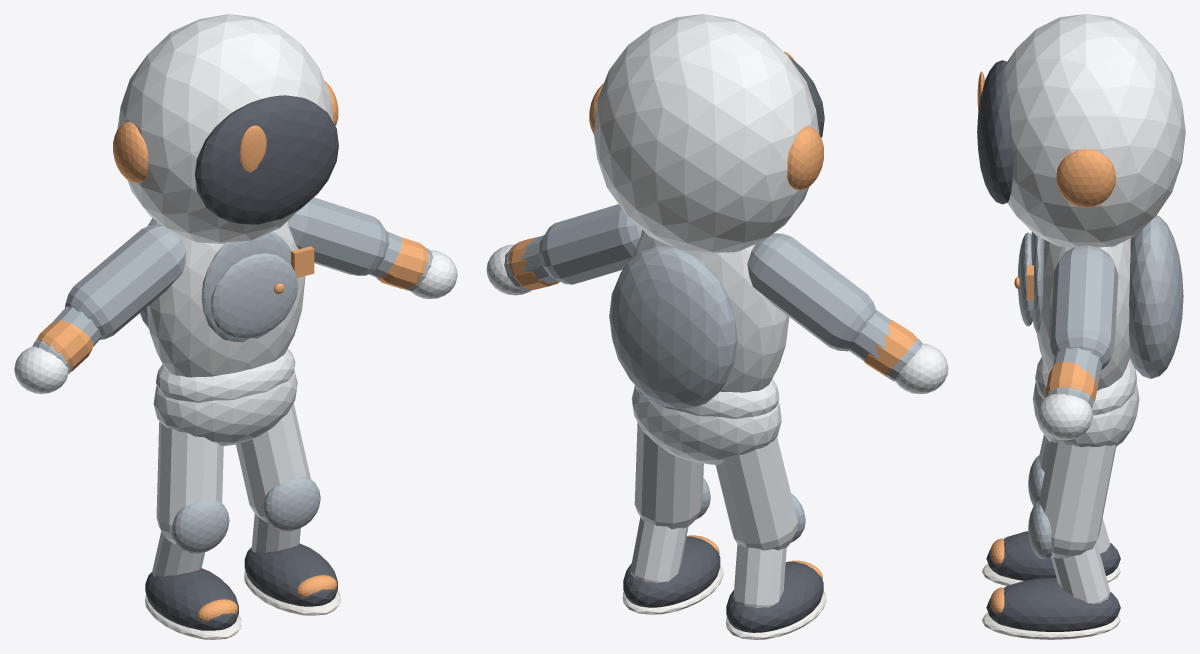
Rendered from 04_astronaut.glb.
The picture shows the model from 3 angles, left to right: view 1: azimuth 30°, elevation 25°; view 2: azimuth 150°, elevation 25°; view 3: azimuth 270°, elevation 25°; orthographic projection. The views are drawn at different scales.
Parts seen in each view (by area): view 1: Helmet shell, Helmet dark visor, Torso, Left upper arm, Chest control panel, Shorts or hip section, Right upper arm, Left thigh, Right thigh, Left shoe, Right shoe, Waist (+16 smaller); view 2: Helmet shell, Life support pack, Left upper arm, Torso, Left thigh, Shorts or hip section, Right upper arm, Right thigh, Left shoe, Right shoe, Left shin, Right shin (+10 smaller); view 3: Helmet shell, Life support pack, Right upper arm, Right thigh, Right shoe, Torso, Helmet dark visor, Helmet comms right, Left shoe, Right shin, Shorts or hip section, Right glove (+11 smaller).
Boxes of the visible parts, x1,y1,x2,y2 form: Helmet shell: (117,14,333,243); Helmet dark visor: (194,95,338,224); Torso: (146,221,305,377); Left upper arm: (65,224,186,339); Chest control panel: (210,253,297,338); Shorts or hip section: (153,370,297,445); Right upper arm: (287,197,388,275); Left thigh: (156,421,223,544); Right thigh: (236,403,310,522); Left shoe: (145,568,238,630); Right shoe: (244,543,337,606); Waist: (156,349,295,402); Helmet shell: (593,14,819,253); Life support pack: (609,246,737,409); Left upper arm: (747,233,876,351); Torso: (627,229,789,392); Left thigh: (715,437,797,550); Shorts or hip section: (631,385,781,464); Right upper arm: (539,204,641,284); Right thigh: (634,422,703,529); Left shoe: (726,561,823,632); Right shoe: (623,536,720,607); Left shin: (733,544,786,608); Right shin: (630,517,688,583); Helmet shell: (1005,14,1185,247); Life support pack: (1129,215,1183,378); Right upper arm: (1050,245,1118,369); Right thigh: (1038,440,1116,558); Right shoe: (986,577,1120,631); Torso: (1036,238,1130,390); Helmet dark visor: (977,60,1013,204); Helmet comms right: (1056,148,1115,207); Left shoe: (986,531,1120,580); Right shin: (1051,542,1110,603); Shorts or hip section: (1032,382,1139,447); Right glove: (1037,394,1092,440).
Size of the model in its own units: 2.2 by 2.78 by 0.9.
